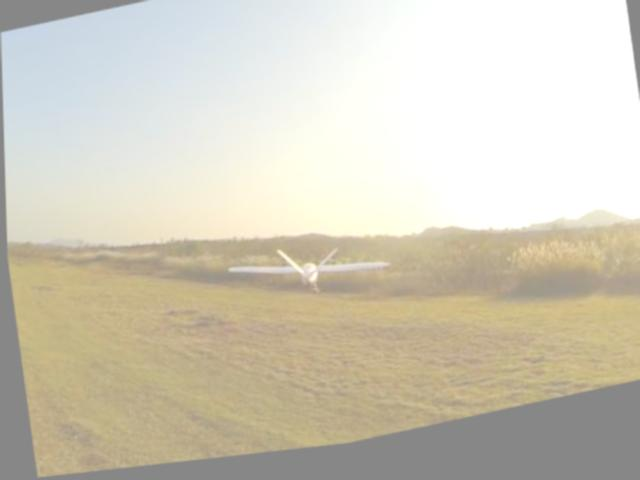uav: (213, 212, 405, 331)
